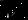person: (9, 7, 16, 18)
